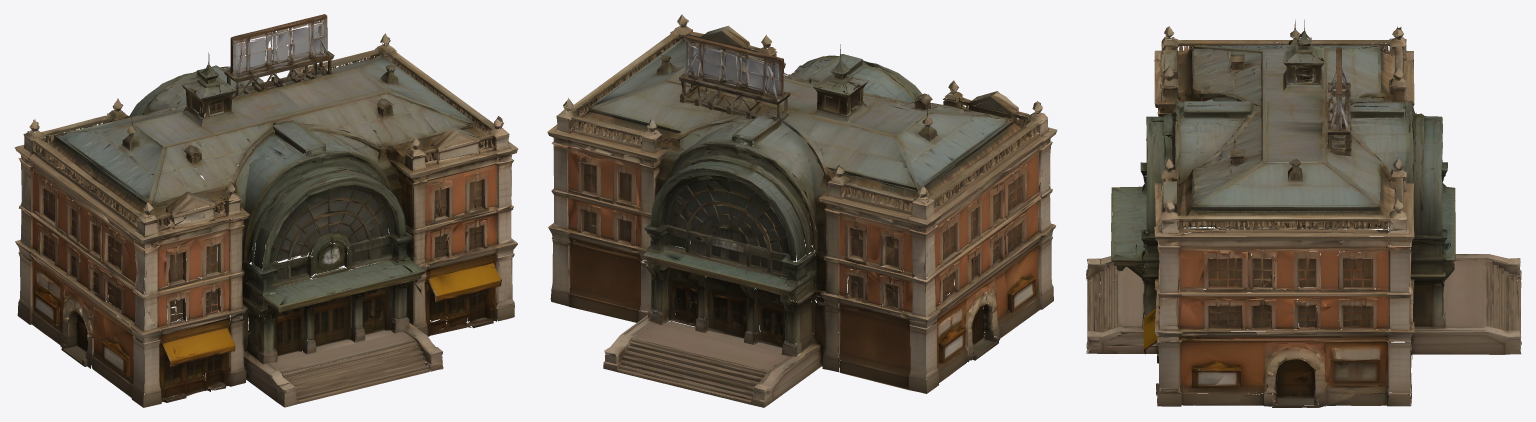
Rendered from ch03_landmark_civic_night_arcade.glb.
3 renders of one model, left to right at view 1: azimuth 30°, elevation 25°; view 2: azimuth 150°, elevation 25°; view 3: azimuth 270°, elevation 25°, orthographic.
Parts seen in each view (by area): view 1: material; view 2: material; view 3: material.
Part boxes in pixels (bbox=[...]): material: bbox=[14, 14, 518, 407]; material: bbox=[547, 14, 1057, 407]; material: bbox=[1086, 19, 1521, 407].
Bounding box in the file's own units: 0.8697 × 0.6065 × 0.86.
Materials: 1 (1 with a texture image).
